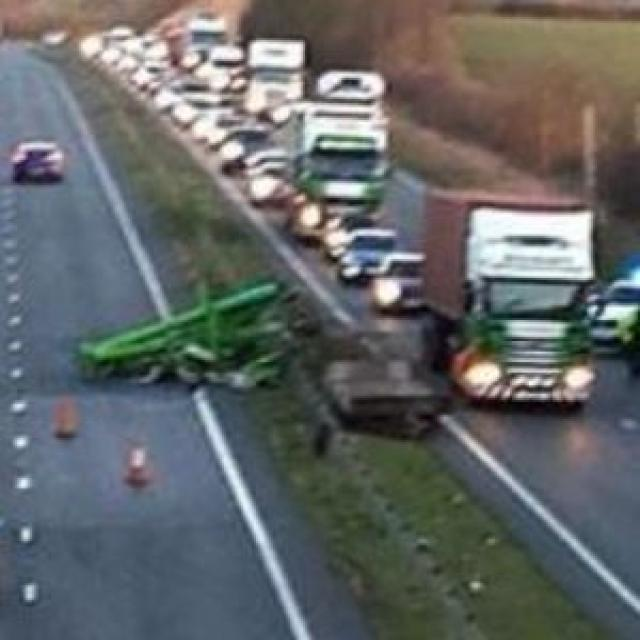traffic_incident: (64, 269, 284, 406)
